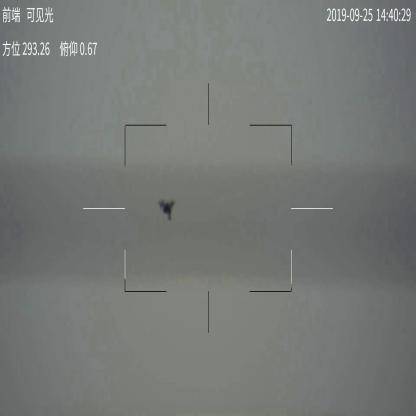uav: (160, 195, 178, 223)
